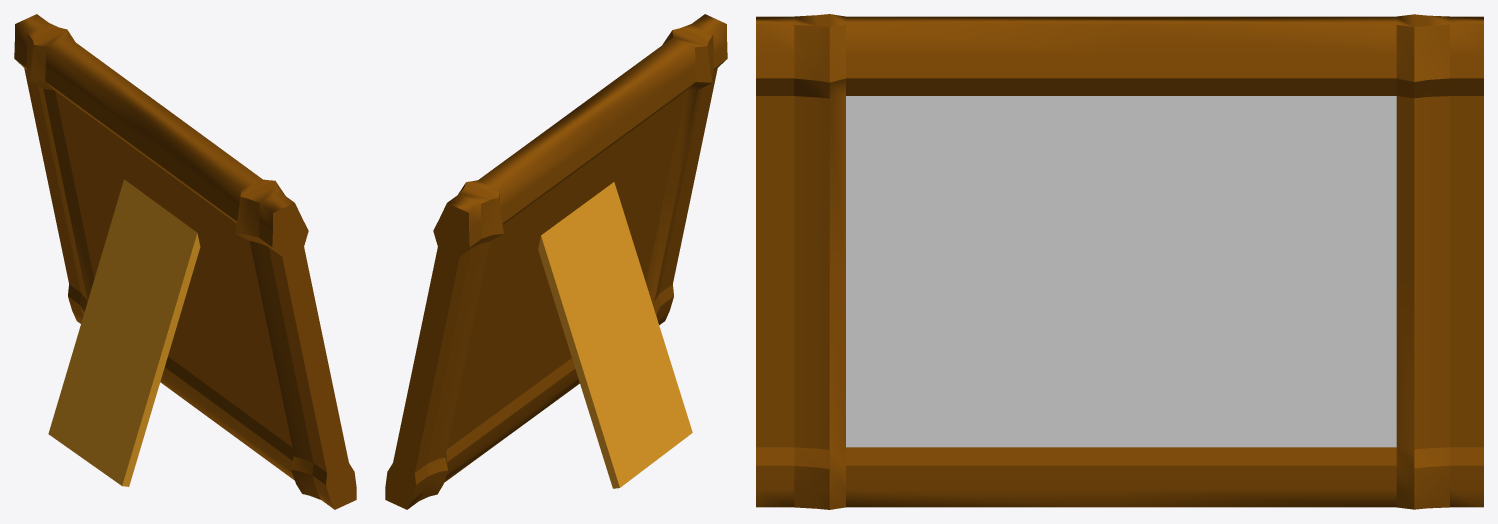
Rendered from moldura.fbx.
3 renders of one model, left to right at view 1: azimuth 30°, elevation 25°; view 2: azimuth 150°, elevation 25°; view 3: azimuth 270°, elevation 25°, orthographic. The views are drawn at different scales.
Visible parts, largest first — view 1: Cube; view 2: Cube; view 3: Cube.
Part boxes in pixels (bbox=[...]): Cube: bbox=[14, 14, 356, 509]; Cube: bbox=[385, 14, 727, 509]; Cube: bbox=[756, 14, 1483, 509].
Bounding box in the file's own units: 102 × 218 × 302.
